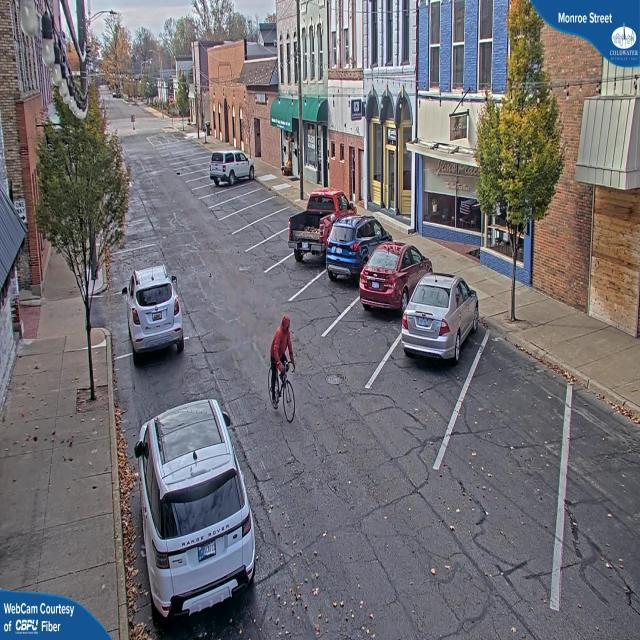available: (560, 416, 640, 595), (449, 372, 566, 487), (250, 238, 290, 266), (232, 219, 274, 243), (220, 209, 258, 231), (212, 200, 247, 217), (202, 189, 234, 205), (187, 179, 209, 187), (182, 171, 203, 179), (181, 164, 202, 172), (176, 160, 202, 166)
occupied: (141, 398, 246, 542), (400, 270, 478, 367), (122, 262, 185, 362), (360, 238, 416, 324), (324, 212, 390, 283), (286, 192, 343, 261), (209, 147, 254, 186)
